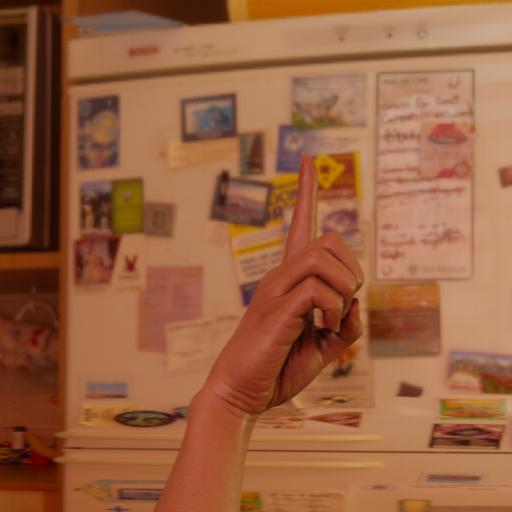D: (205, 140, 387, 424)
